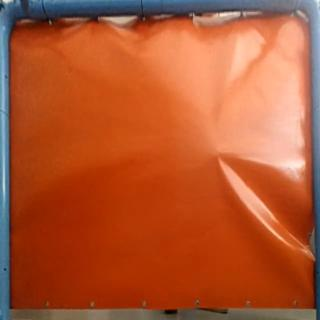Hit-hRxx: (206, 144, 228, 164)
